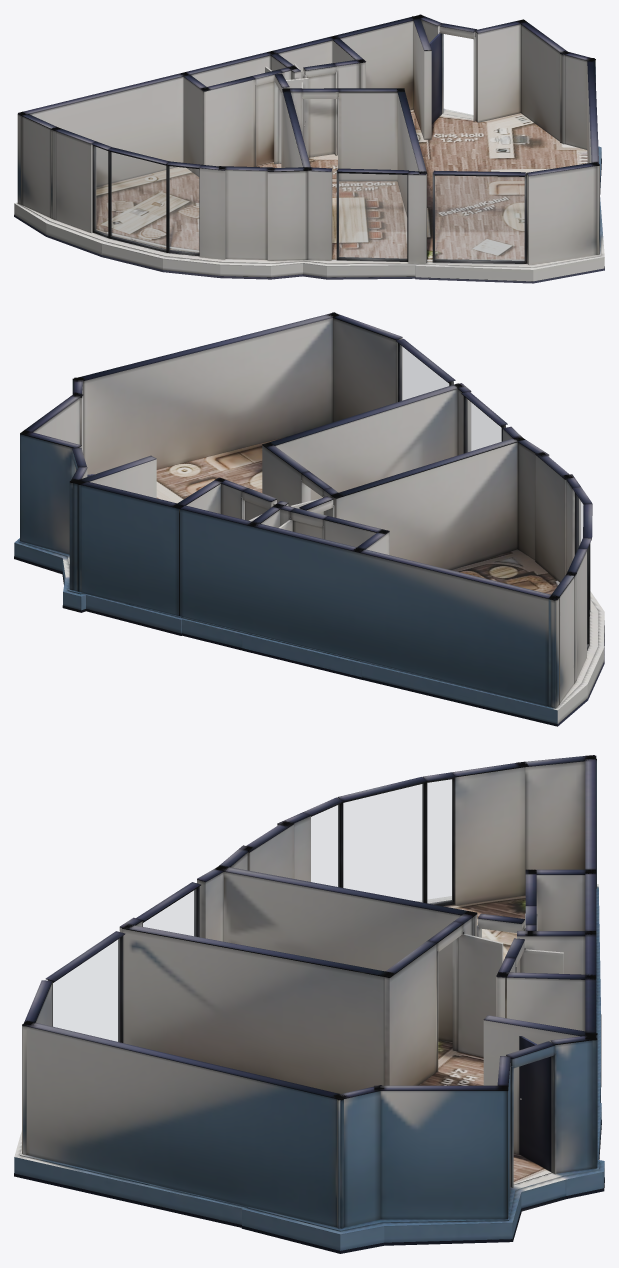
The picture shows the model from 3 angles, top to bottom: view 1: azimuth 30°, elevation 25°; view 2: azimuth 150°, elevation 25°; view 3: azimuth 270°, elevation 25°; orthographic projection. The views are drawn at different scales.
Visible parts, largest first — view 1: plan, glass4_m, glass3_m, glass1_m, glass2_m, glass0_m; view 2: plan, glass4_m, glass3_m; view 3: plan, glass1_m, glass4_m, glass0_m, glass2_m, glass3_m.
Part boxes in pixels (x1,y1,x2,y2): plan: (14,14,604,283); glass4_m: (435,176,524,260); glass3_m: (339,173,406,258); glass1_m: (111,152,165,249); glass2_m: (169,166,198,253); glass0_m: (95,147,107,234); plan: (14,312,604,726); glass4_m: (400,345,448,400); glass3_m: (466,398,501,452); plan: (14,755,604,1253); glass1_m: (343,784,423,902); glass4_m: (53,939,119,1041); glass0_m: (427,779,452,903); glass2_m: (311,805,338,886); glass3_m: (143,890,195,935).
Bounding box in the file's own units: 13.18 × 2.62 × 9.39.
2 materials, 1 textured.
